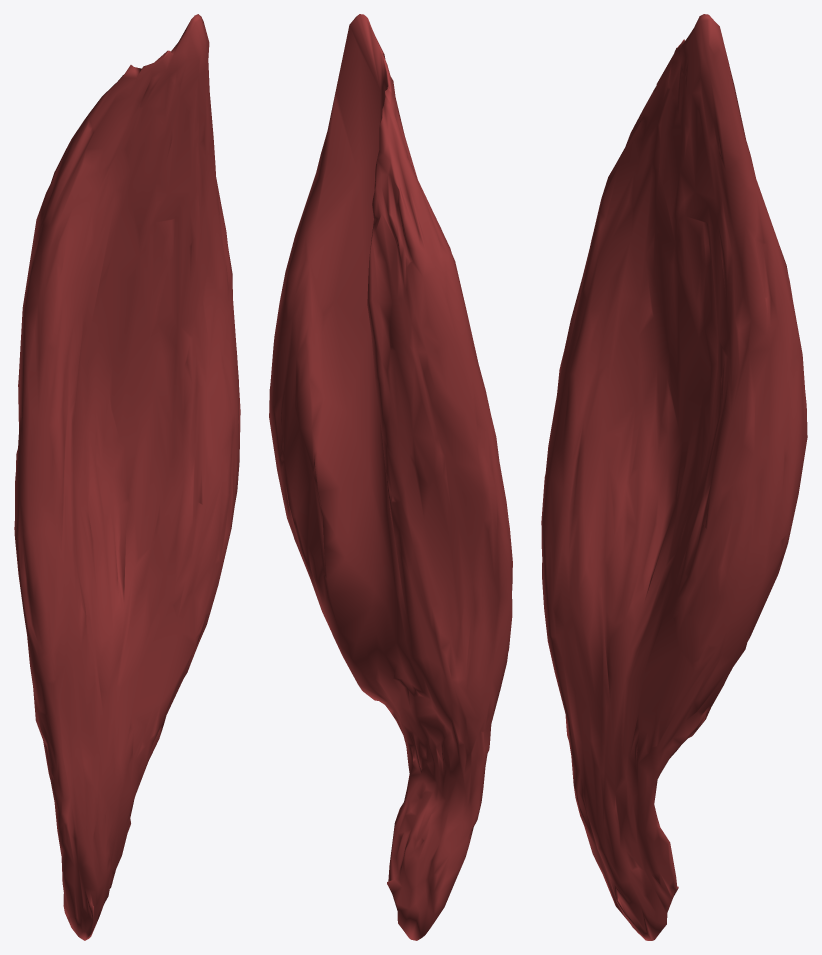
File: brachialis-muscle-r.glb
3 renders of one model, left to right at view 1: azimuth 30°, elevation 25°; view 2: azimuth 150°, elevation 25°; view 3: azimuth 330°, elevation 25°, orthographic. The views are drawn at different scales.
Visible parts, largest first — view 1: Brachialis muscle.r; view 2: Brachialis muscle.r; view 3: Brachialis muscle.r.
Part boxes in pixels (x1,y1,x2,y2): Brachialis muscle.r: (14, 14, 240, 940); Brachialis muscle.r: (269, 14, 512, 940); Brachialis muscle.r: (541, 14, 807, 940).
Size of the model in its own units: 0.0609 by 0.2323 by 0.0271.
